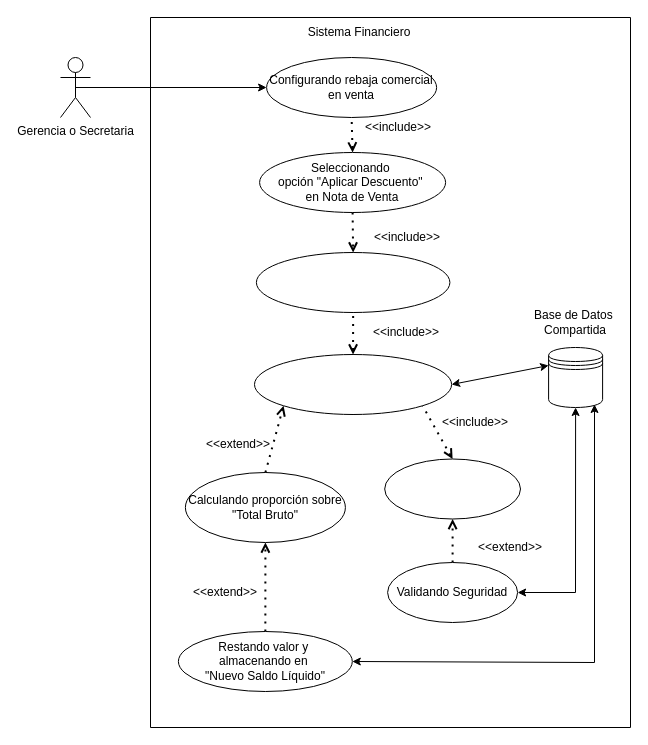
Image size: 648x745. Some labels were removed from this diagram. Each missing label, with the centre of its shape:
Desplegando Selector "Monto Fijo" o "Porcentaje": (352,282)
Seleccionando "Guardar Descuento": (452,488)
Seleccionando "Porcentaje" e ingresando valor: (353,384)
